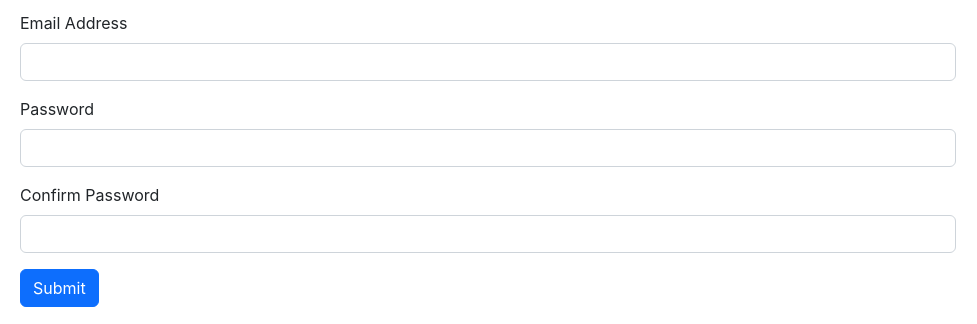
Test: Testing Form Component › should be able to type an email
Type "Hello, World!" into the field.
click(488, 62); type("Hello, World!")  # box [20,43,956,81]
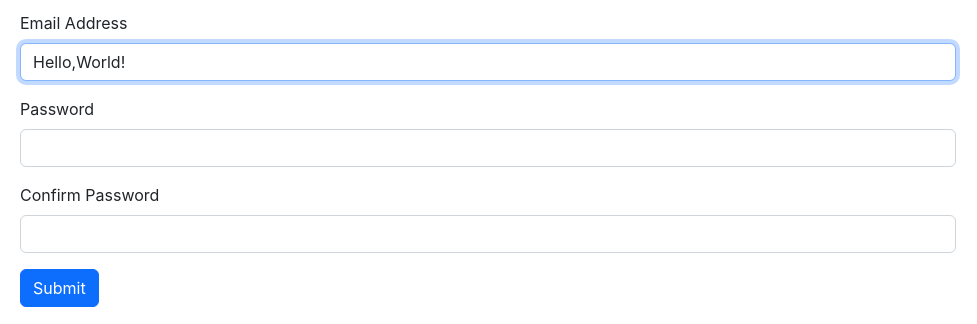
Result: the field holds "Hello,World!" at [20,43,956,81]
